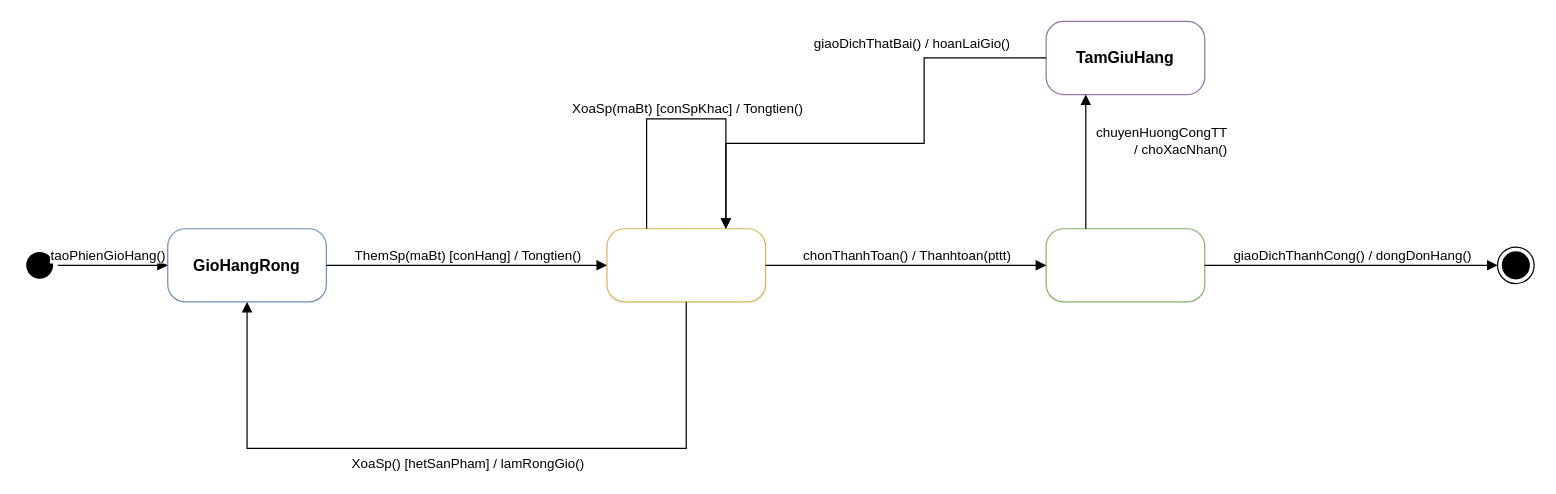
This 1556x494 diagram has some shape labels left out. Each missing label, with the box of its shape:
CoSanPham: (606, 228, 766, 302)
DangThanhToan: (1045, 228, 1205, 302)
